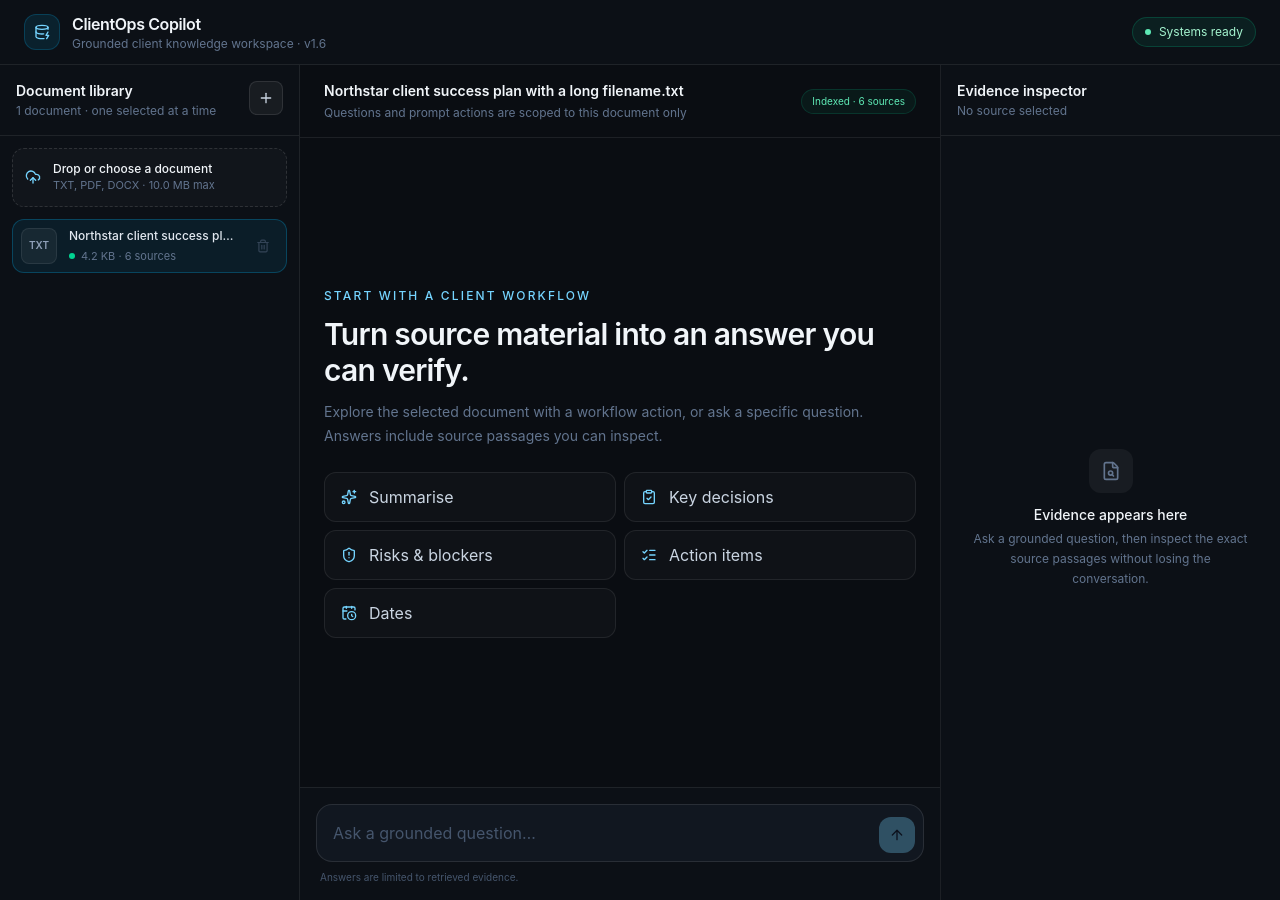
ClientOps workspace › keeps provider_failure visually distinct
Expected: the text "Start with a client workflow" is shown, top-left (324, 288), bottom-right (591, 302)
Click the button "Summarise": (411, 496) top-left (324, 472), bottom-right (616, 522)
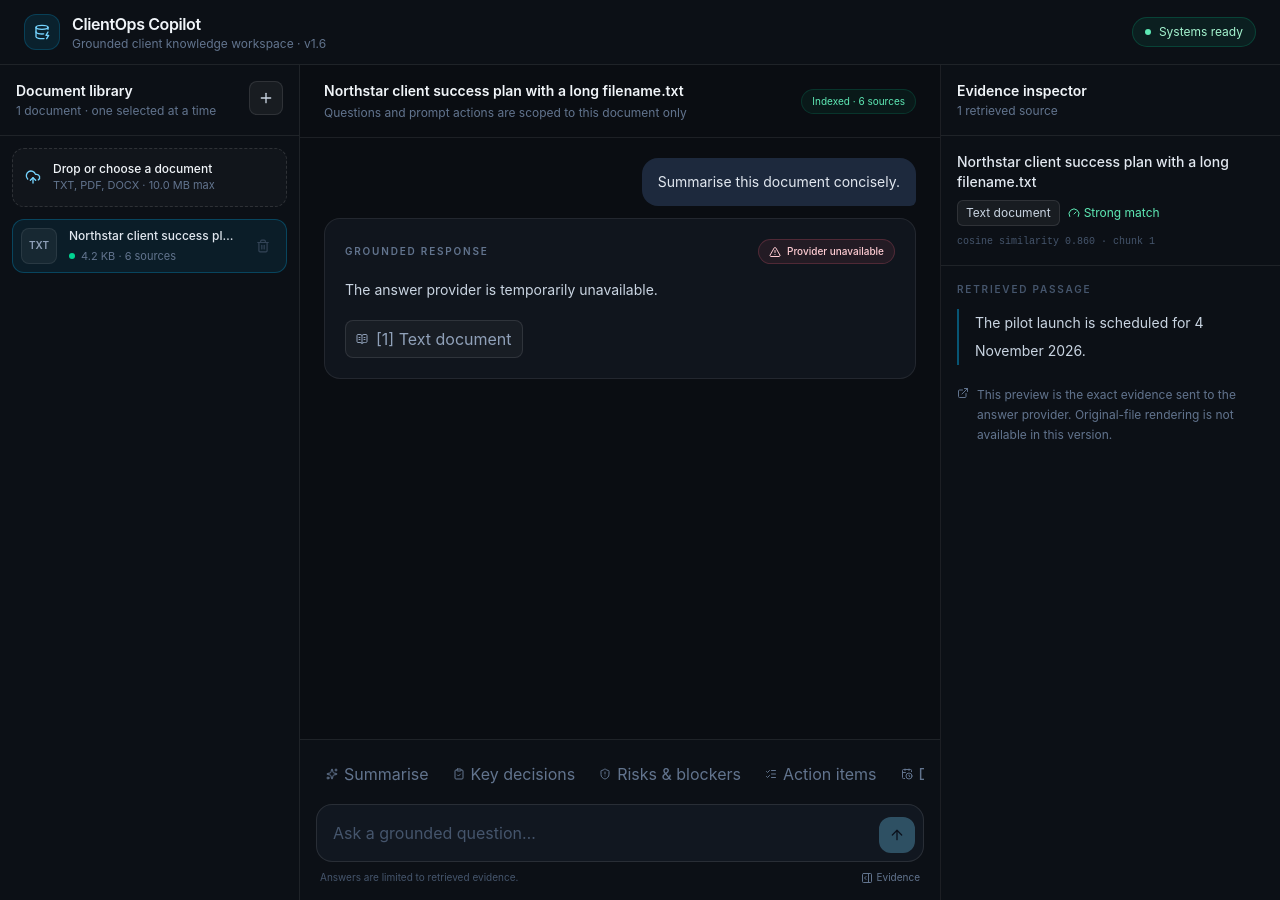
Now the text "Provider unavailable" is shown, box top-left (758, 239), bottom-right (895, 264)
